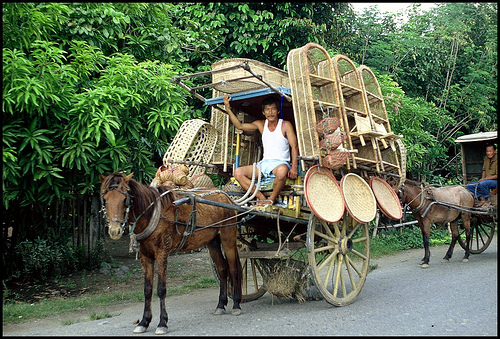horse: (100, 171, 244, 333), (398, 178, 483, 266)
